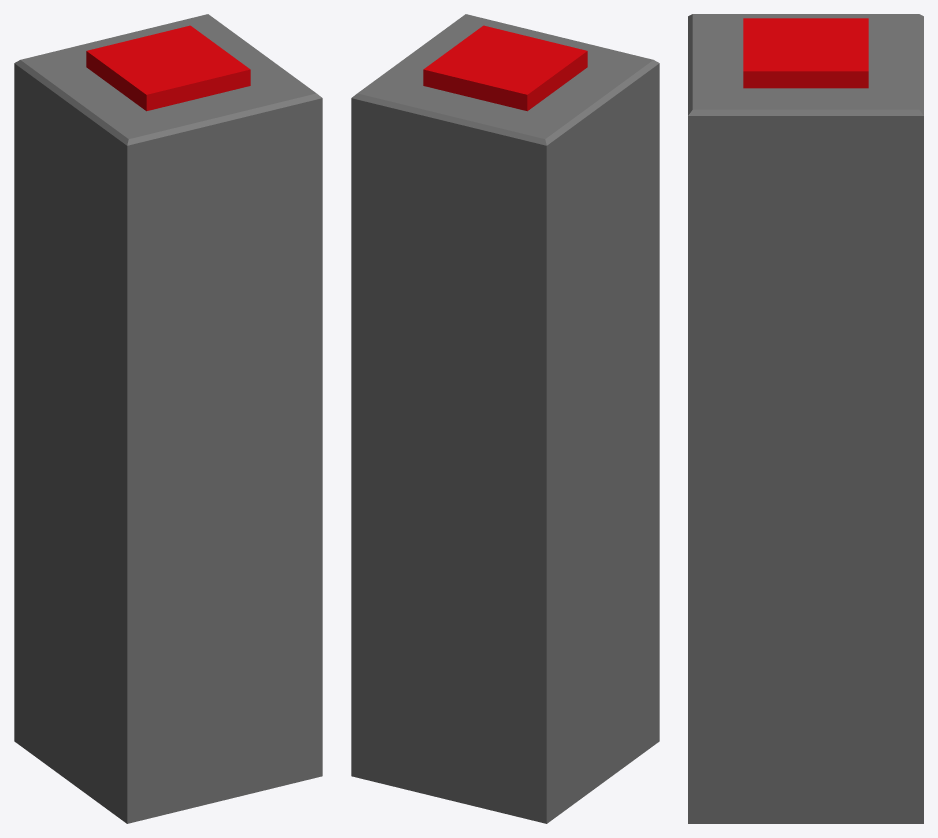
The model's file is button.glb.
3 renders of one model, left to right at view 1: azimuth 30°, elevation 25°; view 2: azimuth 150°, elevation 25°; view 3: azimuth 270°, elevation 25°, orthographic. The views are drawn at different scales.
Visible parts, largest first — view 1: Cube; view 2: Cube; view 3: Cube.
Boxes of the visible parts, x1=… form: Cube: x1=14, y1=14, x2=322, y2=823; Cube: x1=351, y1=14, x2=659, y2=823; Cube: x1=688, y1=14, x2=923, y2=823.
Bounding box in the file's own units: 0.6378 × 2.18 × 0.6378.
